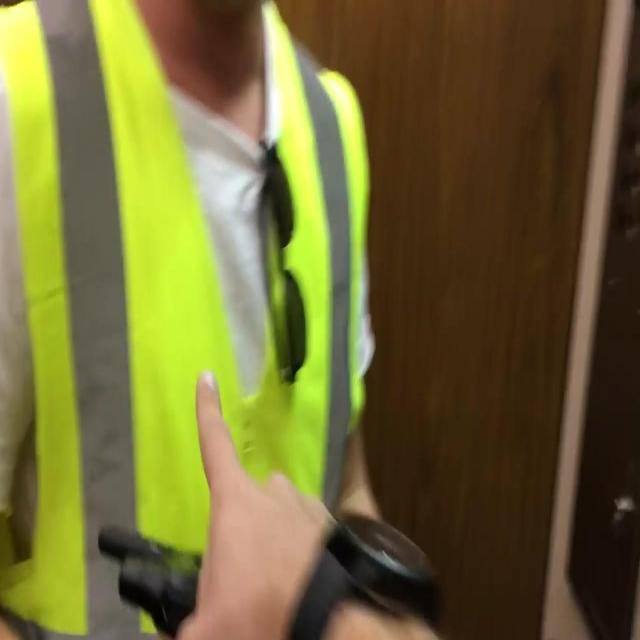Reflective-Jacket: (0, 0, 394, 633)
